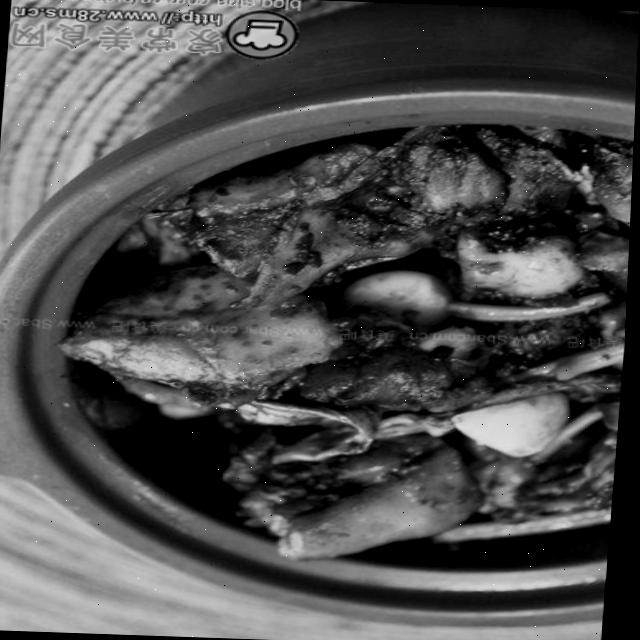鸡肉料理 含炸鸡: (0, 42, 639, 640)
